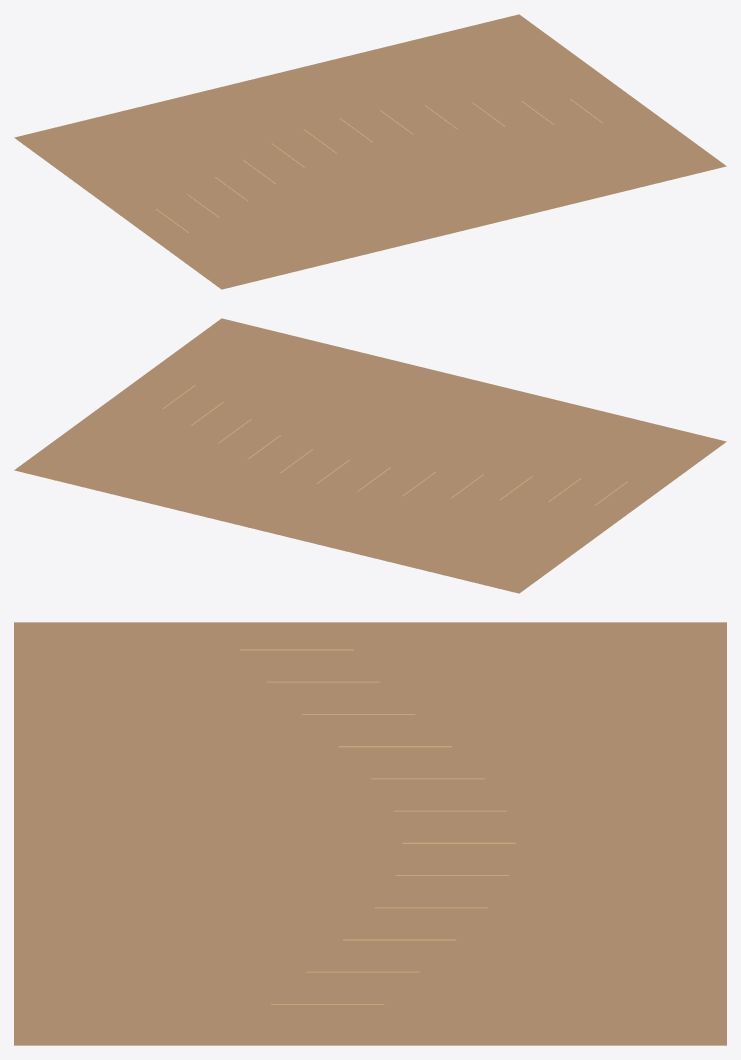
The model's file is 262_L119_L13_LayerReference.glb.
The picture shows the model from 3 angles, top to bottom: view 1: azimuth 30°, elevation 25°; view 2: azimuth 150°, elevation 25°; view 3: azimuth 270°, elevation 25°; orthographic projection. The views are drawn at different scales.
Parts seen in each view (by area): view 1: 0000__PSMAT__copper_dark; view 2: 0000__PSMAT__copper_dark; view 3: 0000__PSMAT__copper_dark.
Part boxes in pixels (x1=…): 0000__PSMAT__copper_dark: x1=14, y1=14, x2=726, y2=289; 0000__PSMAT__copper_dark: x1=14, y1=318, x2=726, y2=593; 0000__PSMAT__copper_dark: x1=14, y1=622, x2=726, y2=1045.
Bounding box in the file's own units: 0.486 × 0.000142 × 0.346.
